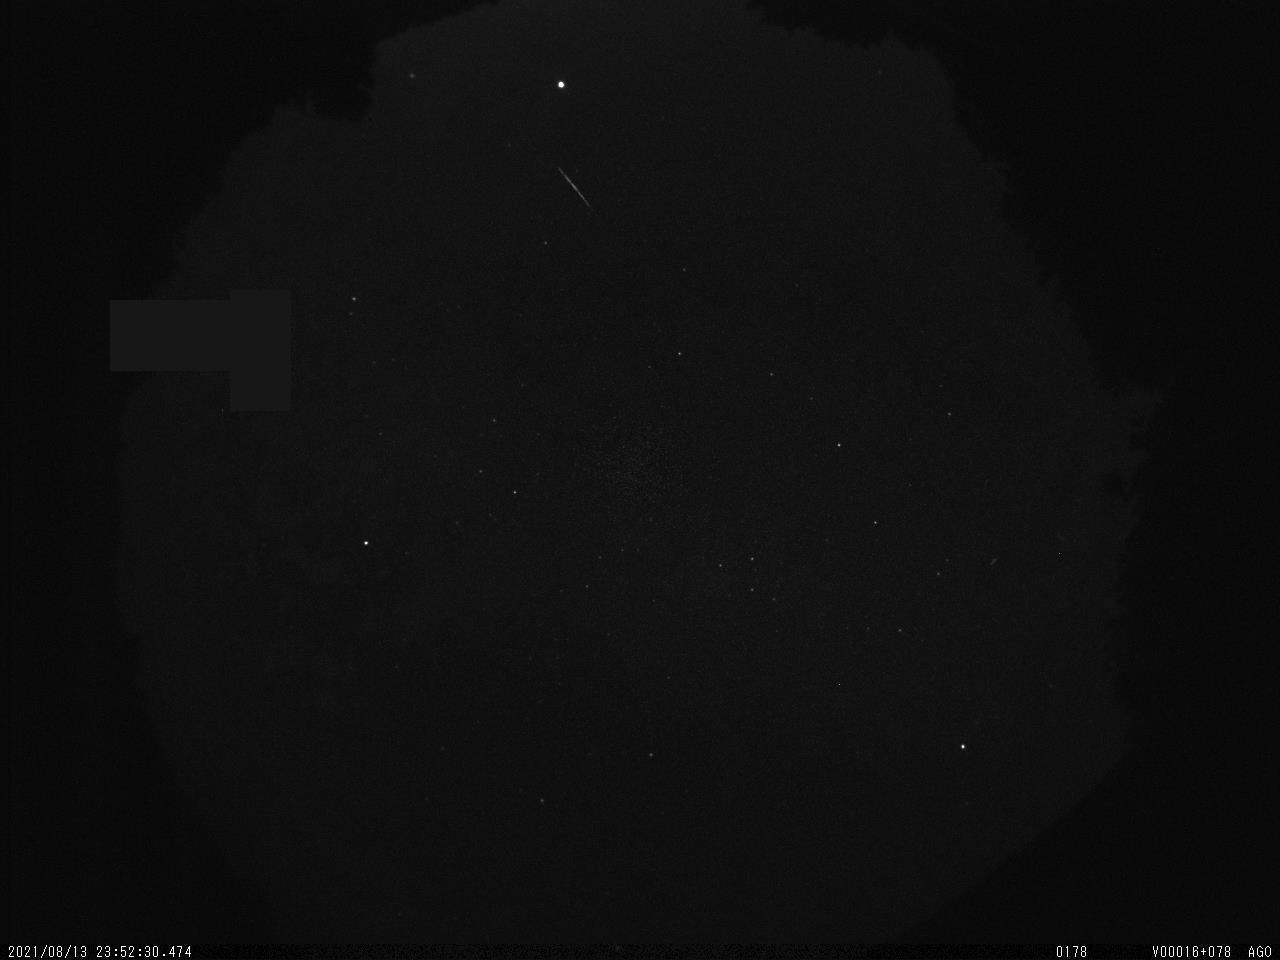meteor: (539, 155, 612, 222)
